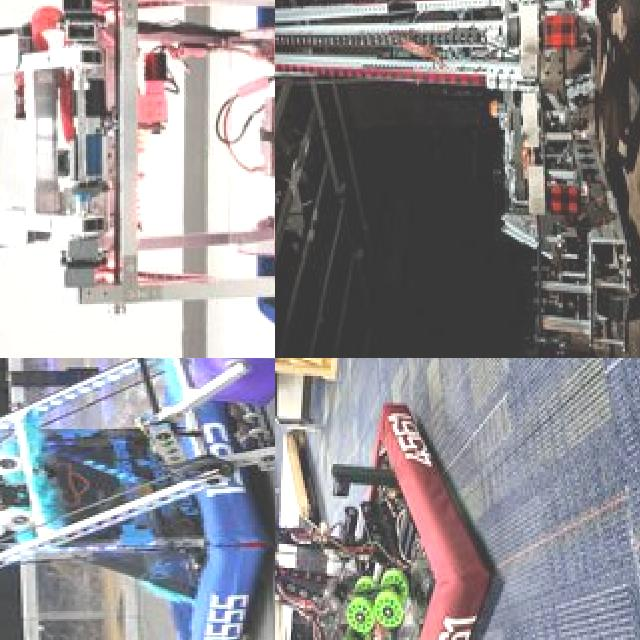FRC-Robots: (275, 0, 637, 323), (0, 0, 275, 358), (0, 358, 275, 640), (275, 396, 522, 640)
